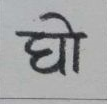o_matra: (61, 14, 86, 71)
